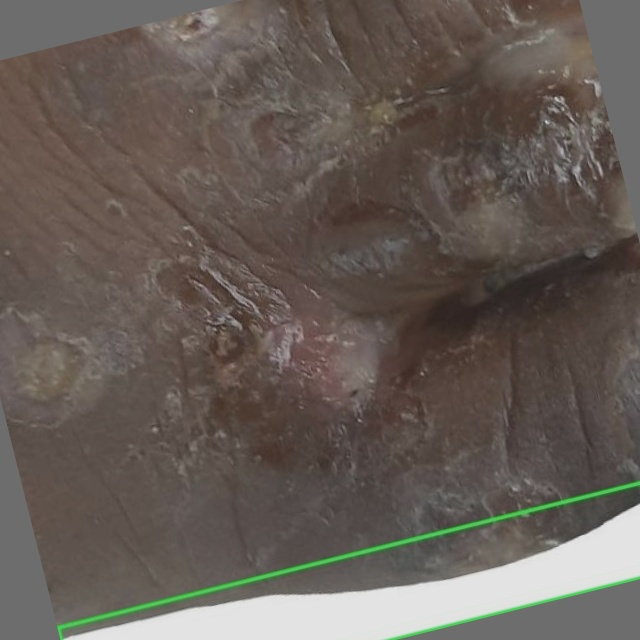Eczema: (58, 483, 639, 639)
